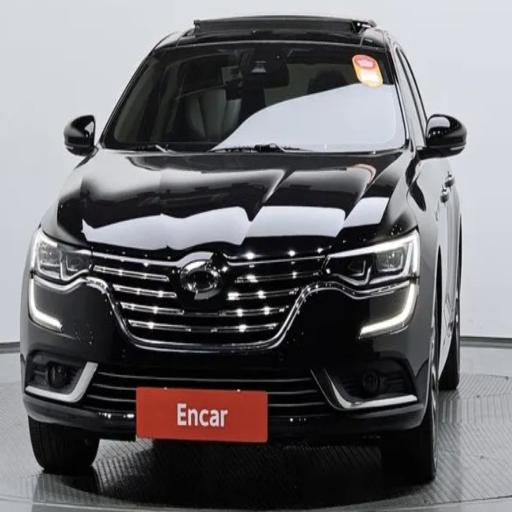normal: (37, 21, 449, 512)
